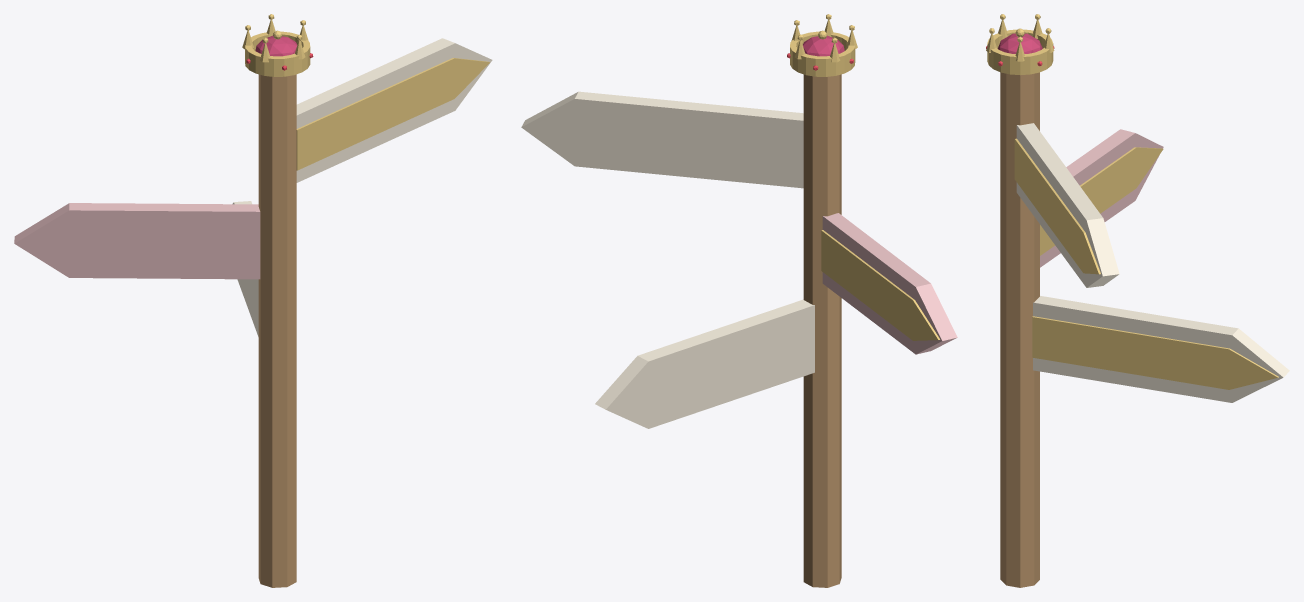
Rendered from HOB_Signpost.fbx.
3 renders of one model, left to right at view 1: azimuth 30°, elevation 25°; view 2: azimuth 150°, elevation 25°; view 3: azimuth 270°, elevation 25°, orthographic.
Parts seen in each view (by area): view 1: HOB_Signpost; view 2: HOB_Signpost; view 3: HOB_Signpost.
Part boxes in pixels (<box>): HOB_Signpost: <box>14,14,492,587</box>; HOB_Signpost: <box>521,14,957,587</box>; HOB_Signpost: <box>986,14,1289,587</box>.
Size of the model in its own units: 240 by 279 by 138.
